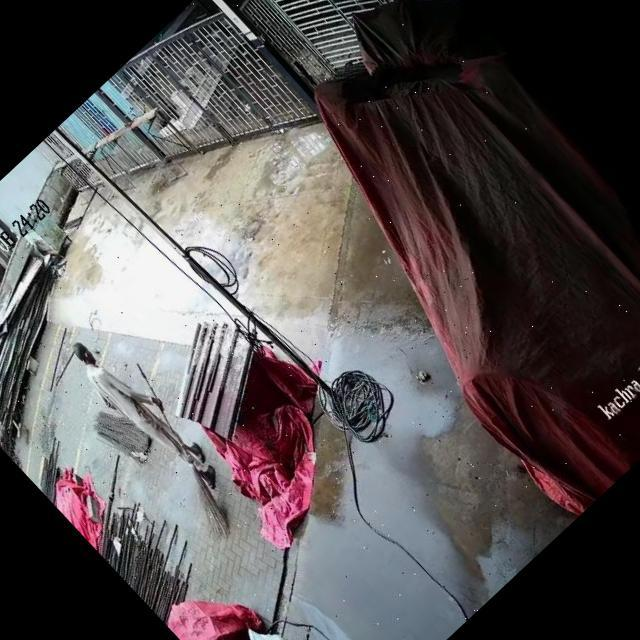person: (66, 338, 222, 502)
